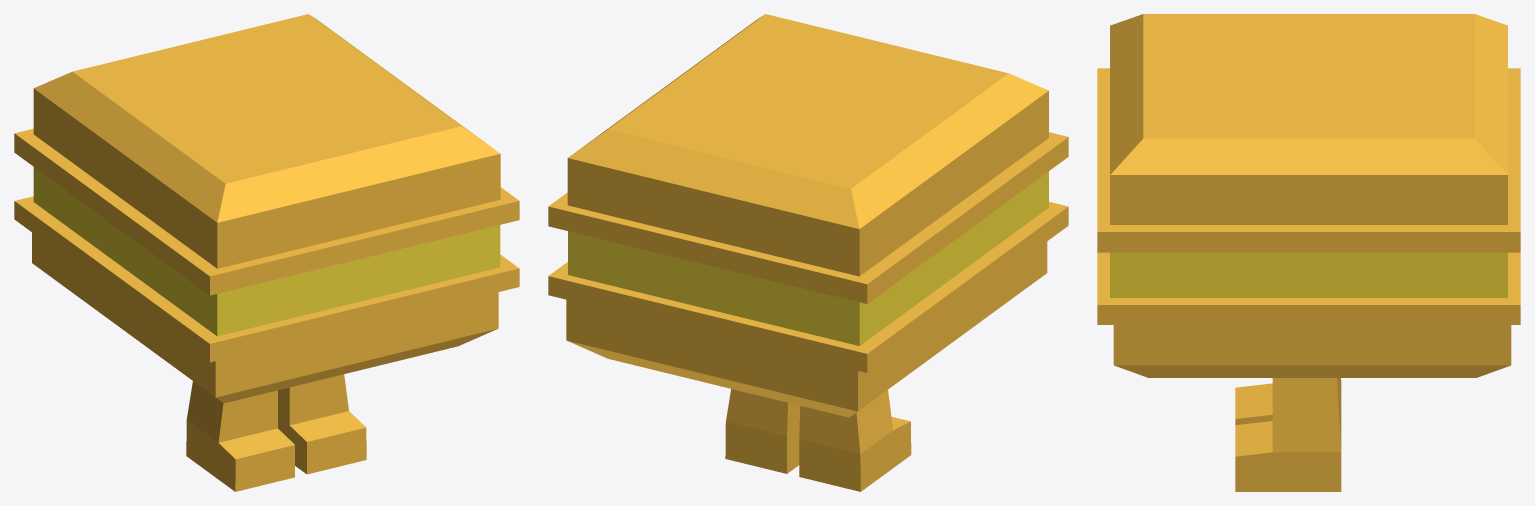
The model's file is st1_block3.fbx.
The picture shows the model from 3 angles, left to right: view 1: azimuth 30°, elevation 25°; view 2: azimuth 150°, elevation 25°; view 3: azimuth 270°, elevation 25°; orthographic projection. The views are drawn at different scales.
Parts seen in each view (by area): view 1: st1_block3_head, st1_block3_down, st1_block3_middle, st1_block3_L_leg, st1_block3_R_leg; view 2: st1_block3_head, st1_block3_down, st1_block3_middle, st1_block3_L_leg, st1_block3_R_leg; view 3: st1_block3_head, st1_block3_down, st1_block3_middle, st1_block3_R_leg, st1_block3_L_leg.
Boxes of the visible parts, bbox=[...] form: st1_block3_head: bbox=[14, 14, 519, 295]; st1_block3_down: bbox=[14, 196, 519, 403]; st1_block3_middle: bbox=[33, 167, 500, 336]; st1_block3_L_leg: bbox=[186, 381, 294, 491]; st1_block3_R_leg: bbox=[278, 374, 366, 474]; st1_block3_head: bbox=[548, 14, 1068, 303]; st1_block3_down: bbox=[548, 202, 1068, 417]; st1_block3_middle: bbox=[568, 171, 1048, 345]; st1_block3_L_leg: bbox=[799, 390, 911, 491]; st1_block3_R_leg: bbox=[725, 389, 800, 473]; st1_block3_head: bbox=[1097, 14, 1520, 252]; st1_block3_down: bbox=[1097, 252, 1520, 377]; st1_block3_middle: bbox=[1110, 252, 1507, 297]; st1_block3_R_leg: bbox=[1235, 378, 1341, 491]; st1_block3_L_leg: bbox=[1235, 378, 1341, 425].
Size of the model in its own units: 437 by 475 by 478.
Materials: 1 (1 with a texture image).
